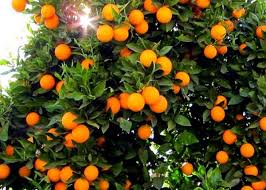orange: (110, 23, 130, 43), (62, 109, 81, 130), (95, 26, 114, 45), (103, 95, 121, 115), (140, 85, 159, 103), (209, 24, 227, 43), (151, 96, 169, 114), (140, 49, 157, 67), (156, 56, 171, 76), (72, 125, 89, 141), (201, 42, 217, 59), (128, 95, 144, 111), (209, 107, 225, 122)
